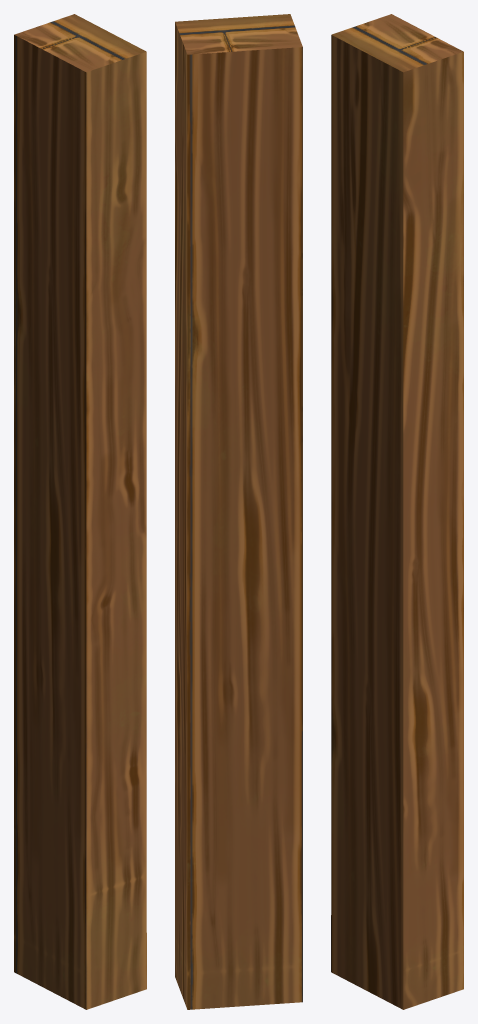
3 views of the same model, side by side, from view 1: azimuth 90°, elevation 25°; view 2: azimuth 150°, elevation 25°; view 3: azimuth 270°, elevation 25° (orthographic).
Visible parts, largest first — view 1: Cube.584; view 2: Cube.584; view 3: Cube.584.
Part boxes in pixels (x1,y1,x2,y2): Cube.584: [14, 14, 146, 1009]; Cube.584: [175, 14, 302, 1009]; Cube.584: [331, 14, 463, 1009].
Size of the model in its own units: 49.23 by 369 by 47.28.
1 material, 1 textured.
